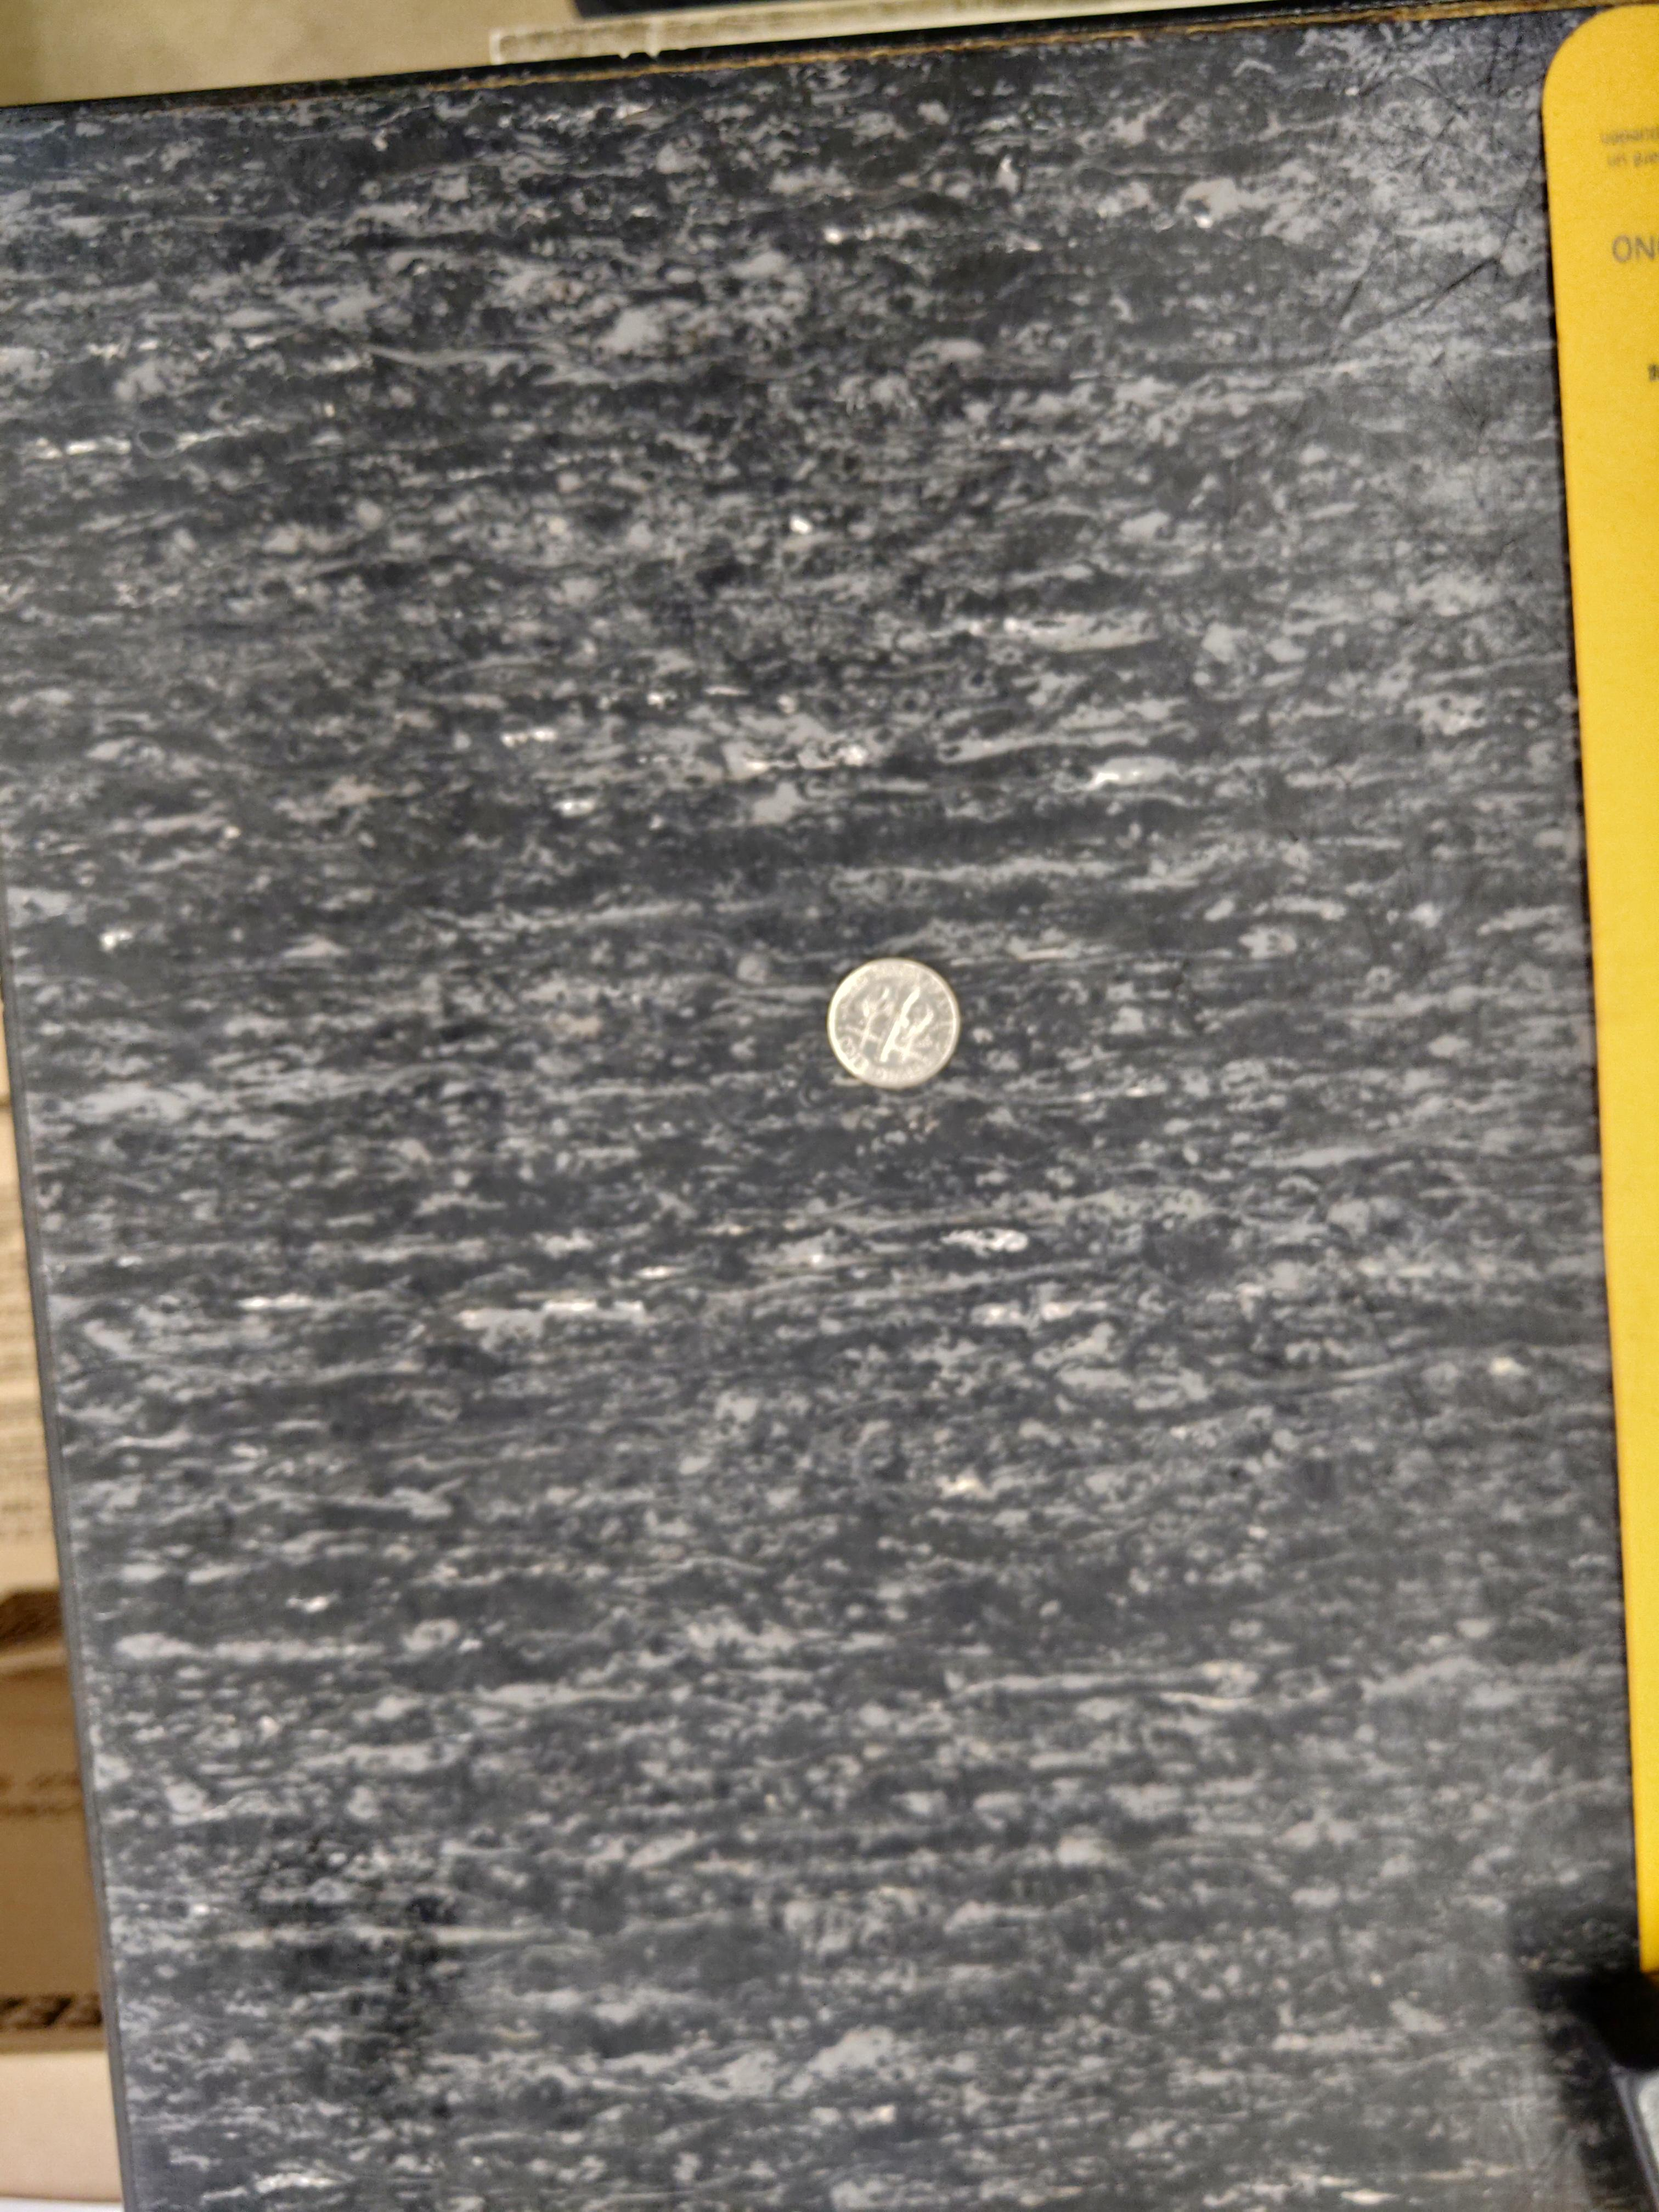Dime: (824, 954, 962, 1092)
